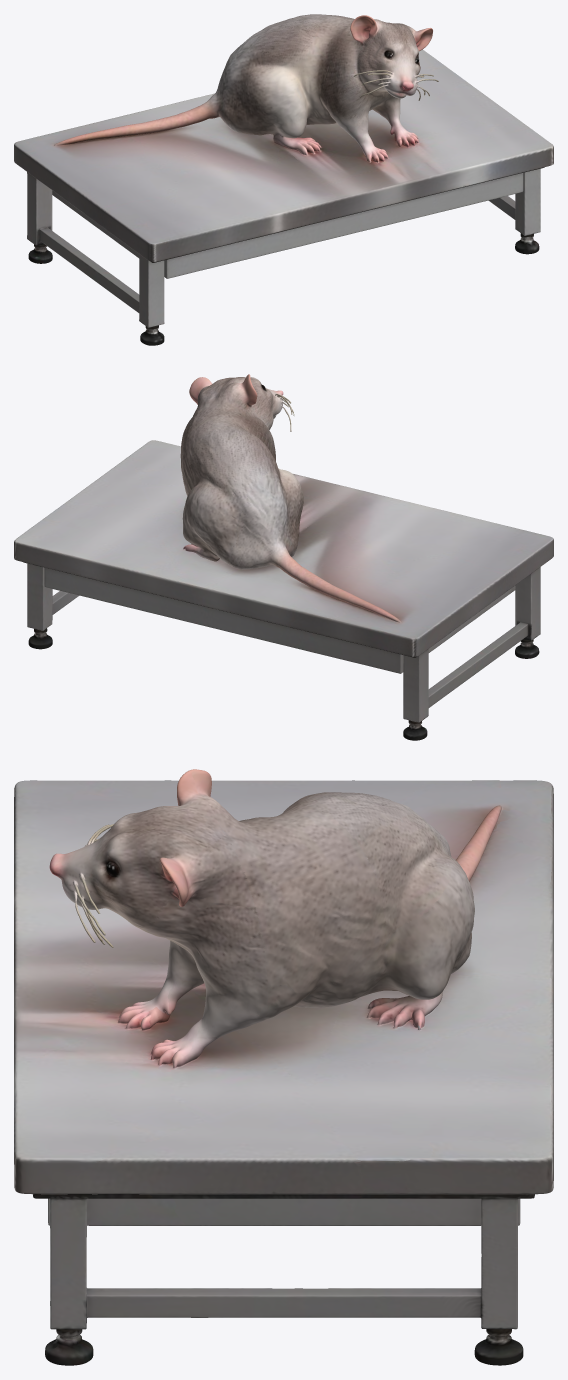
Rendered from rat+on+table+3d+model.glb.
3 renders of one model, top to bottom at view 1: azimuth 30°, elevation 25°; view 2: azimuth 150°, elevation 25°; view 3: azimuth 270°, elevation 25°, orthographic. The views are drawn at different scales.
Visible parts, largest first — view 1: tripo_node_65a4a8be-3972-4b0f-9f2b-75fa3151ca5e; view 2: tripo_node_65a4a8be-3972-4b0f-9f2b-75fa3151ca5e; view 3: tripo_node_65a4a8be-3972-4b0f-9f2b-75fa3151ca5e.
Boxes of the visible parts, box(x1,y1,x2,y2) form: tripo_node_65a4a8be-3972-4b0f-9f2b-75fa3151ca5e: box(14, 14, 553, 345); tripo_node_65a4a8be-3972-4b0f-9f2b-75fa3151ca5e: box(14, 374, 553, 740); tripo_node_65a4a8be-3972-4b0f-9f2b-75fa3151ca5e: box(14, 769, 553, 1365).
Size of the model in its own units: 1 by 0.5709 by 0.6001.
1 material, 1 textured.
